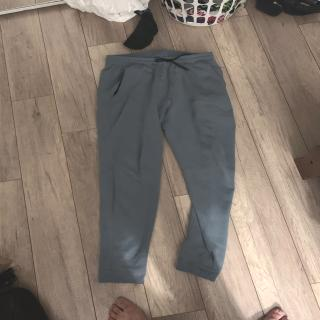Blue Sweatpants: (88, 45, 240, 286)
